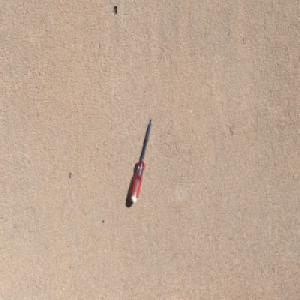Screwdriver: (130, 115, 153, 204)
